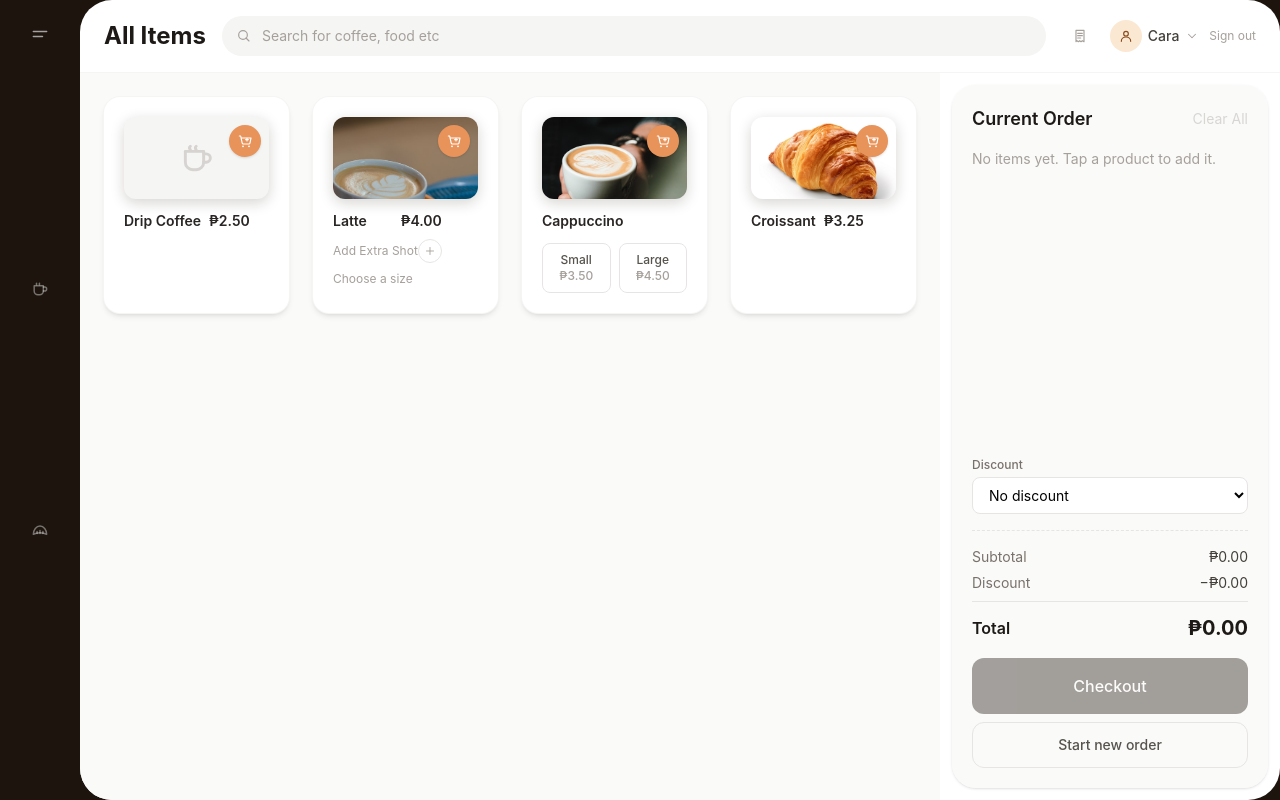
Test: POS cart — adding items › adds separate lines when different size chips of the same product are tapped
Expected: the text "Cappuccino" is shown, [542,212,624,229]
Step 1. Click the button with aria-label "Cappuccino Small" → (576, 268), box [542,243,610,293]
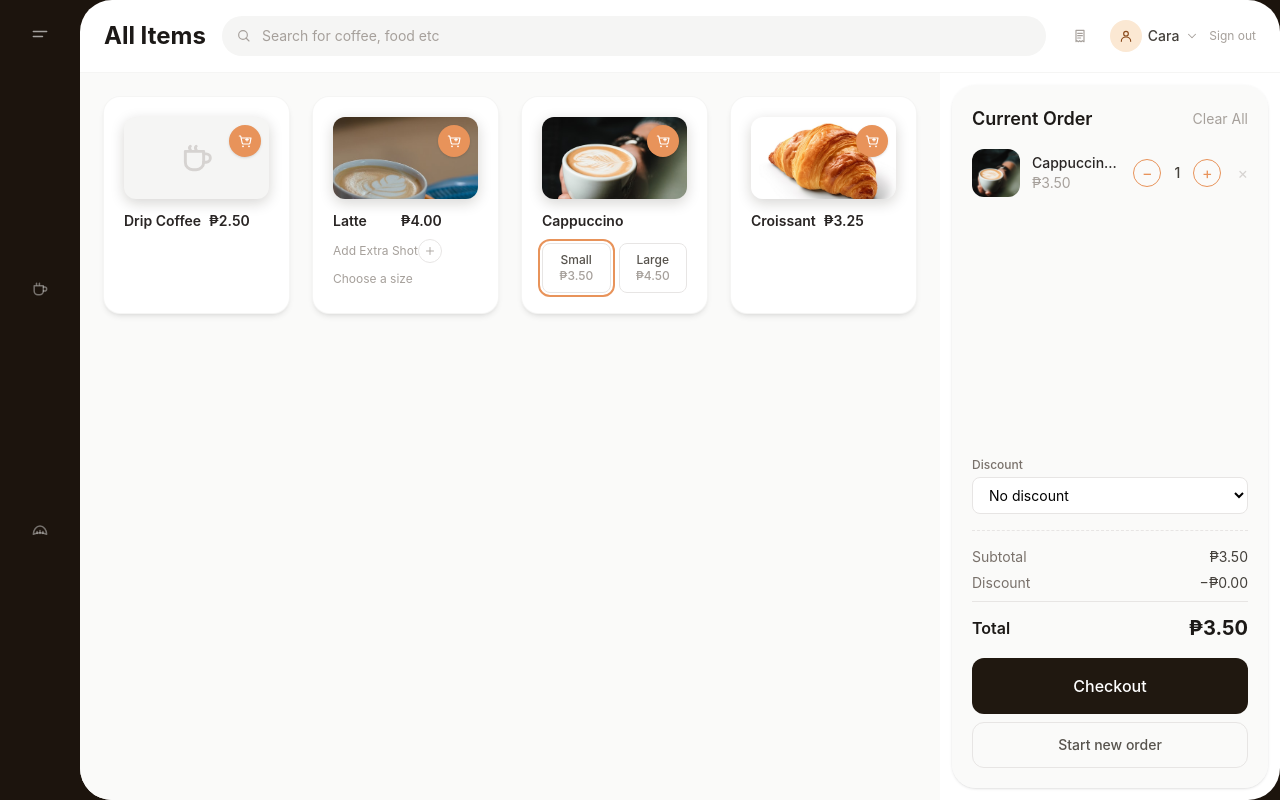
Step 2. Click the button with aria-label "Cappuccino Large" → (653, 268), box [618,243,687,293]
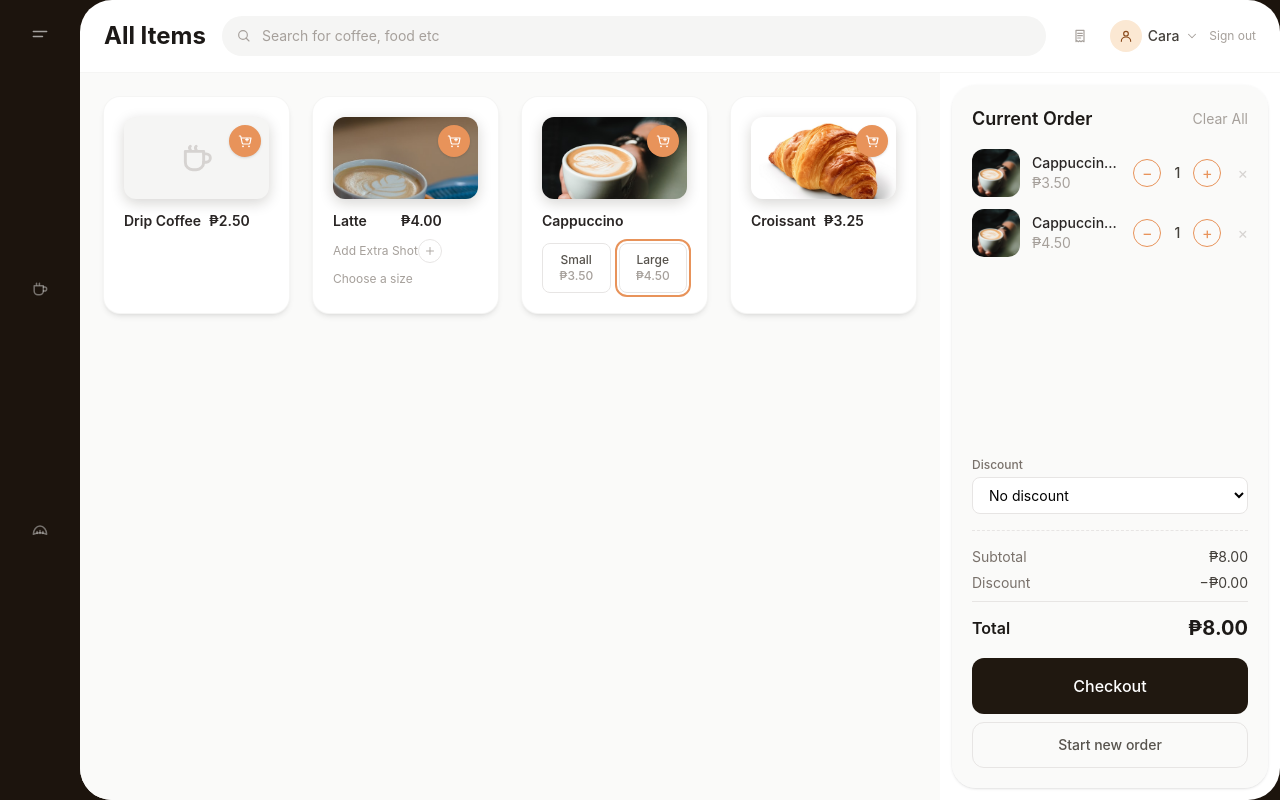
Now the text "Cappuccino — Small" is shown, box [1032,153,1121,173]
Now the text "Cappuccino — Large" is shown, box [1032,213,1121,233]
